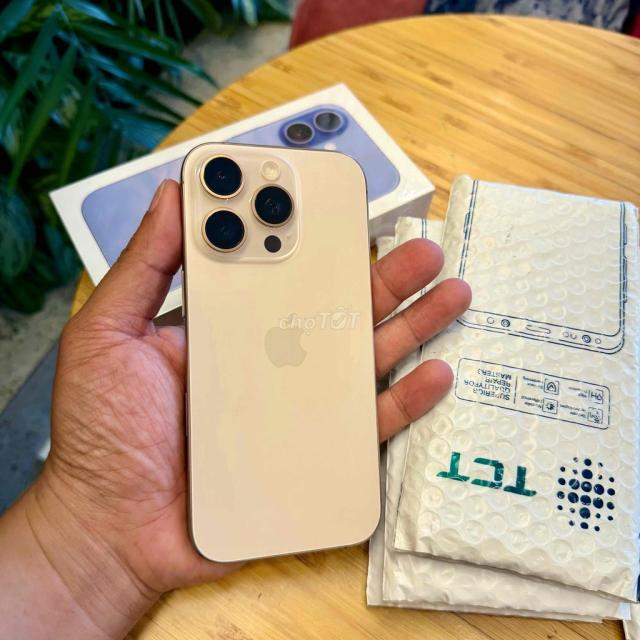gen_16: (168, 121, 386, 569)
